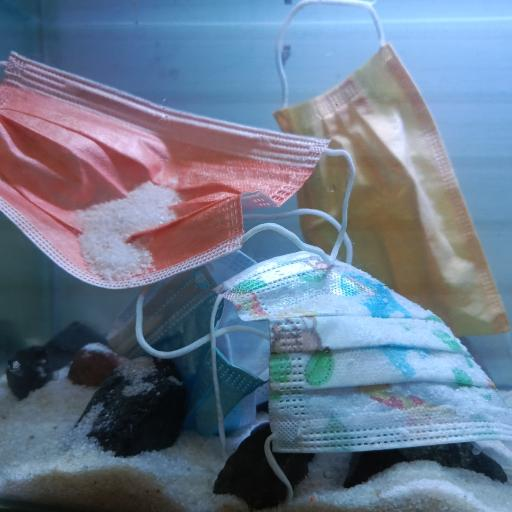mask: (0, 48, 356, 294), (271, 41, 512, 338), (209, 245, 512, 456), (105, 247, 270, 437)
